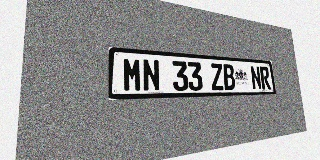3: (172, 61, 188, 91), (187, 62, 203, 91)
B: (222, 64, 236, 90)
M: (123, 57, 142, 92)
N: (142, 59, 160, 92), (250, 66, 262, 90)
R: (259, 66, 271, 89)
Z: (210, 63, 224, 90)
